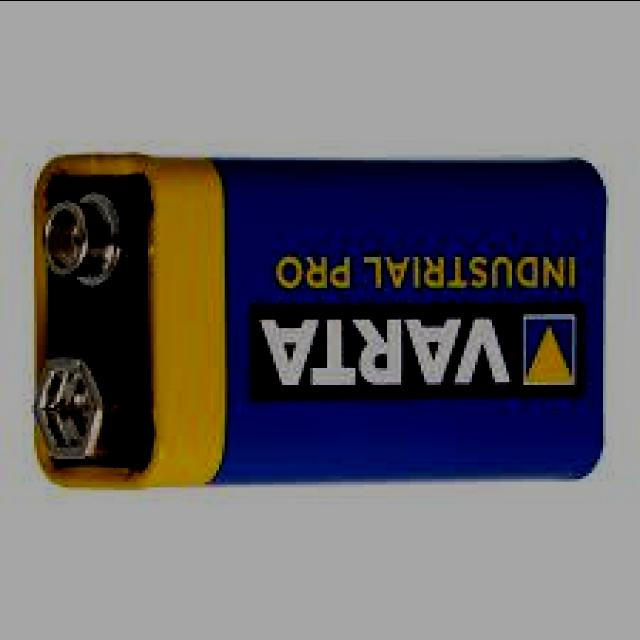9V: (28, 154, 606, 492)
